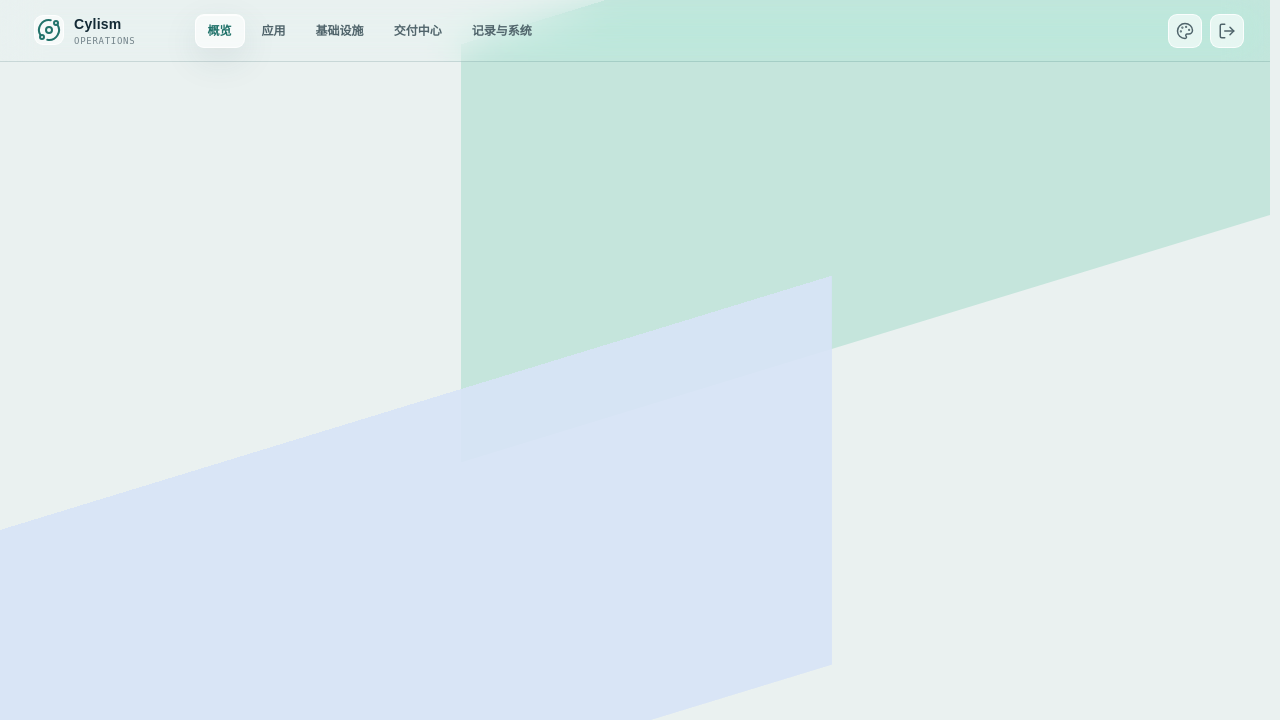
Test: Glass UI application shell › uses the Direction 05 薄荷玻璃 palette and an unframed desktop top bar
Click the button named "选择配色" at (1185, 30), box [1168, 14, 1202, 48]
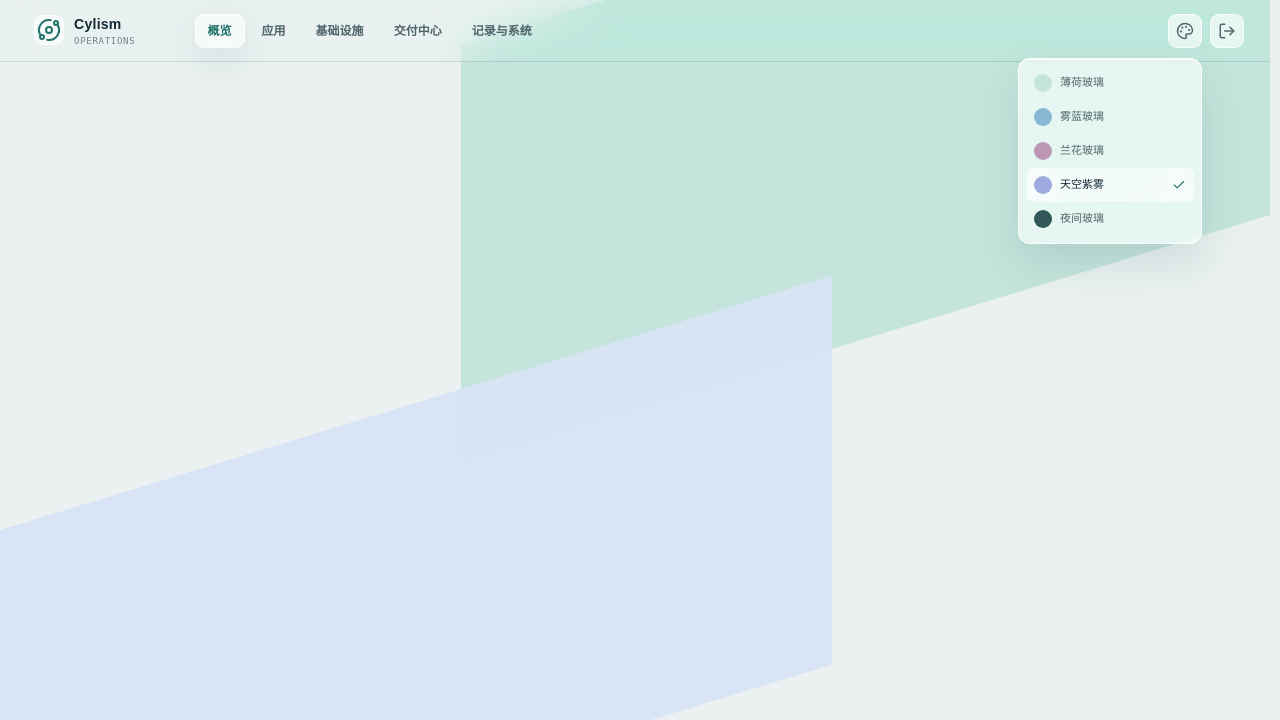
expect the menu with test id "palette-menu" shows "薄荷玻璃": met, box [1026, 66, 1194, 100]
